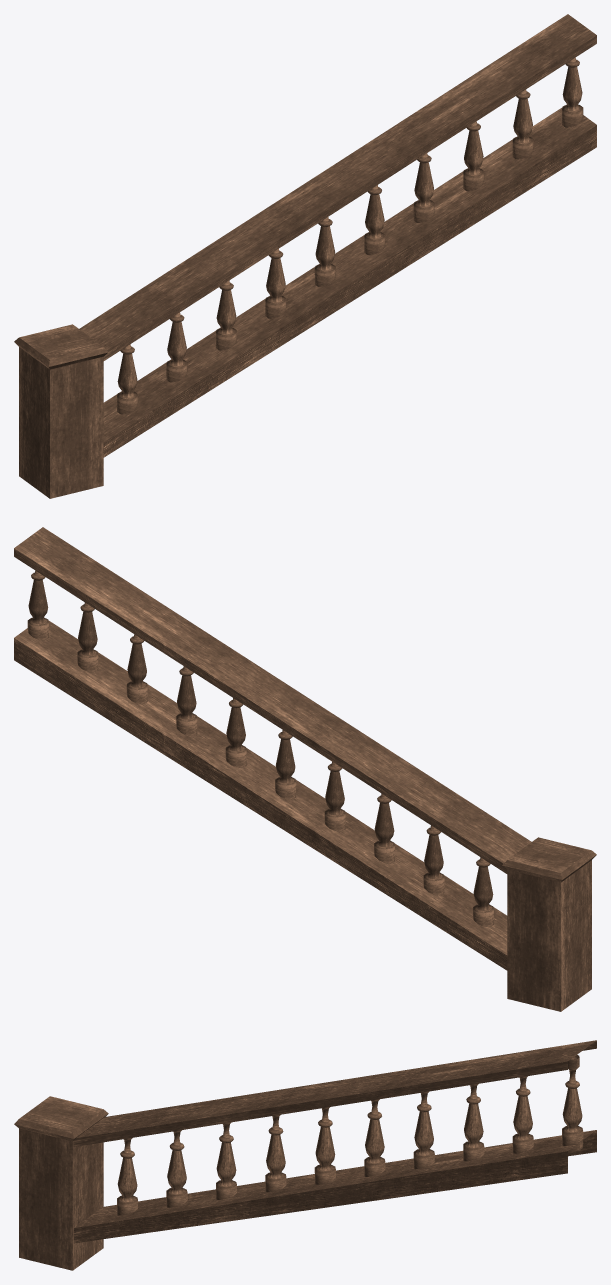
Rendered from chshody.fbx.
The picture shows the model from 3 angles, top to bottom: view 1: azimuth 30°, elevation 25°; view 2: azimuth 150°, elevation 25°; view 3: azimuth 330°, elevation 25°; orthographic projection.
Visible parts, largest first — view 1: Cube.005, Cube.004, Cube.002, porucniHP; view 2: Cube.005, Cube.004, Cube.002, porucniHP; view 3: Cube.005, Cube.004, Cube.002, porucniHP.
Part boxes in pixels (x1,y1,x2,y2): Cube.005: (103,107,596,457); Cube.004: (79,14,596,360); Cube.002: (14,324,108,498); porucniHP: (117,57,583,414); Cube.005: (14,620,507,970); Cube.004: (14,527,531,873); Cube.002: (502,837,596,1011); porucniHP: (27,570,493,927); Cube.005: (73,1130,596,1243); Cube.004: (73,1040,596,1146); Cube.002: (14,1096,108,1270); porucniHP: (117,1055,583,1215).
Bounding box in the file's own units: 513 × 293 × 55.91.
